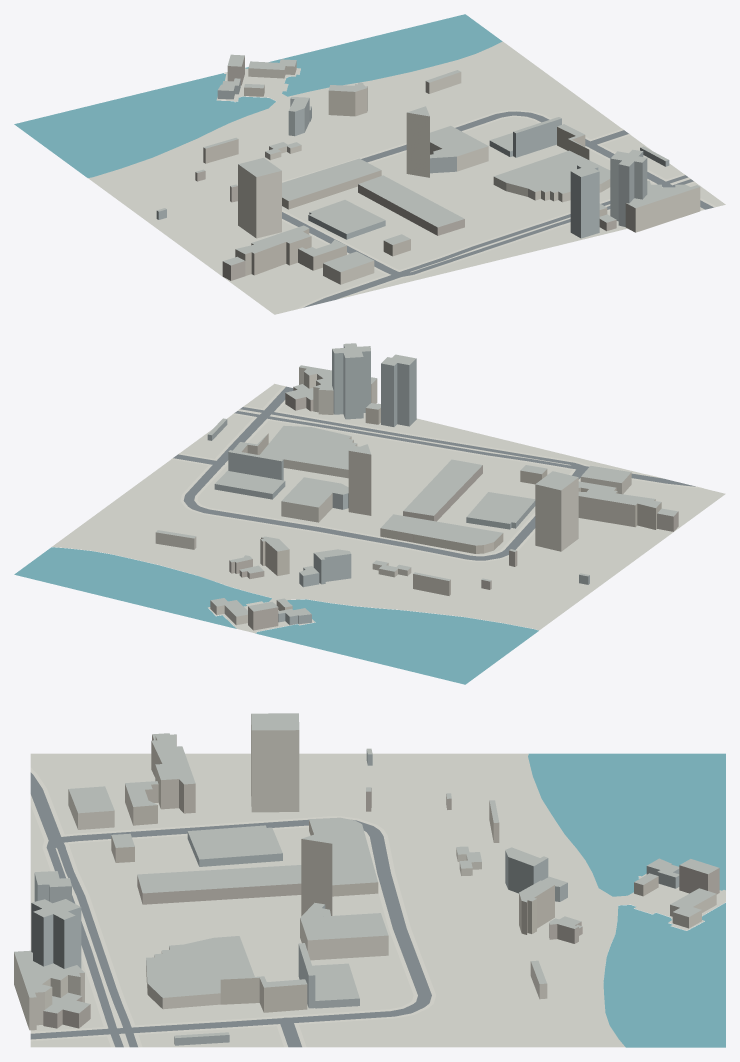
3 renders of one model, top to bottom at view 1: azimuth 30°, elevation 25°; view 2: azimuth 150°, elevation 25°; view 3: azimuth 270°, elevation 25°, orthographic. The views are drawn at different scales.
Parts seen in each view (by area): view 1: city; view 2: city; view 3: city.
Boxes of the visible parts, left/top/right/bottom form: city: left=14, top=14, right=725, bottom=314; city: left=14, top=343, right=725, bottom=684; city: left=14, top=713, right=725, bottom=1047.
Bounding box in the file's own units: 500 × 65.18 × 512.
